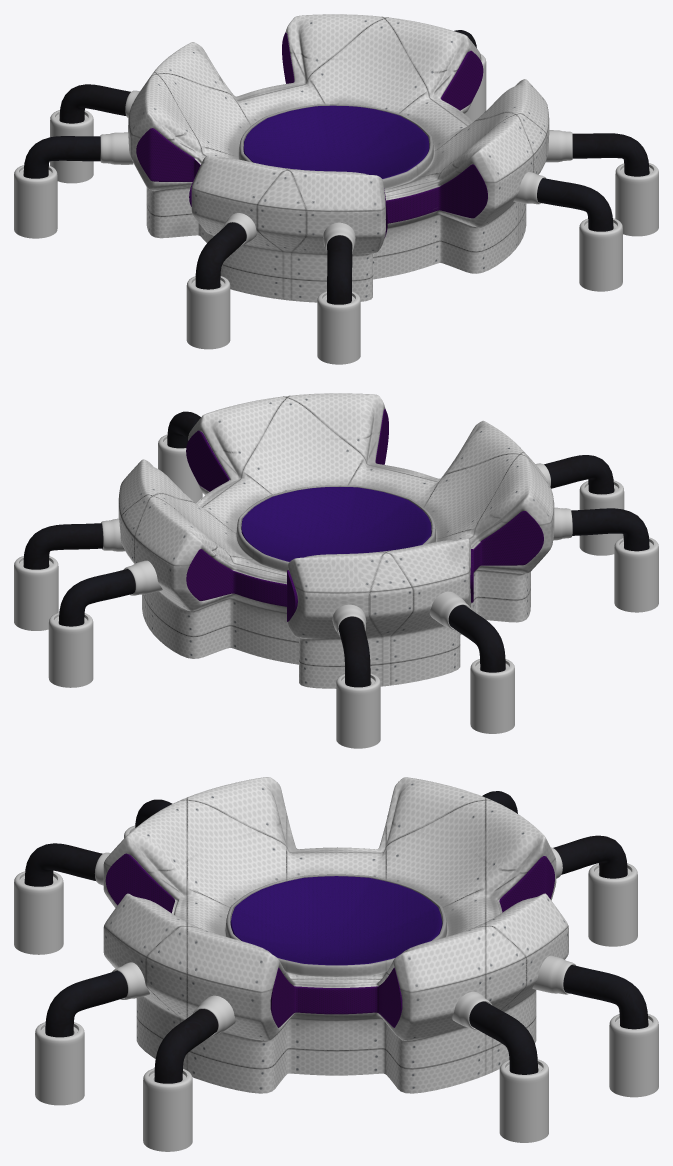
File: LandingZone.fbx
The picture shows the model from 3 angles, top to bottom: view 1: azimuth 30°, elevation 25°; view 2: azimuth 150°, elevation 25°; view 3: azimuth 270°, elevation 25°; orthographic projection. The views are drawn at different scales.
Parts seen in each view (by area): view 1: Base_LZ, Cablehooks_LZ, Cable_LZ, Middle_LZ, SidePanels_LZ, CableConnectors_LZ; view 2: Base_LZ, Cablehooks_LZ, Cable_LZ, Middle_LZ, SidePanels_LZ, CableConnectors_LZ; view 3: Base_LZ, Cablehooks_LZ, Cable_LZ, Middle_LZ, SidePanels_LZ, CableConnectors_LZ.
Boxes of the visible parts, x1=… form: Base_LZ: x1=128, y1=14, x2=549, y2=302; Cablehooks_LZ: x1=14, y1=54, x2=658, y2=364; Cable_LZ: x1=23, y1=30, x2=649, y2=304; Middle_LZ: x1=243, y1=105, x2=429, y2=178; SidePanels_LZ: x1=136, y1=32, x2=487, y2=237; CableConnectors_LZ: x1=100, y1=90, x2=572, y2=252; Base_LZ: x1=118, y1=393, x2=554, y2=688; Cablehooks_LZ: x1=14, y1=434, x2=658, y2=748; Cable_LZ: x1=23, y1=411, x2=649, y2=687; Middle_LZ: x1=241, y1=487, x2=431, y2=561; SidePanels_LZ: x1=186, y1=409, x2=543, y2=621; CableConnectors_LZ: x1=101, y1=463, x2=572, y2=636; Base_LZ: x1=103, y1=777, x2=568, y2=1093; Cablehooks_LZ: x1=14, y1=825, x2=658, y2=1151; Cable_LZ: x1=24, y1=791, x2=648, y2=1083; Middle_LZ: x1=230, y1=876, x2=442, y2=965; SidePanels_LZ: x1=105, y1=853, x2=554, y2=1027; CableConnectors_LZ: x1=95, y1=847, x2=576, y2=1036.
Size of the model in its own units: 1463 by 382 by 1463.
